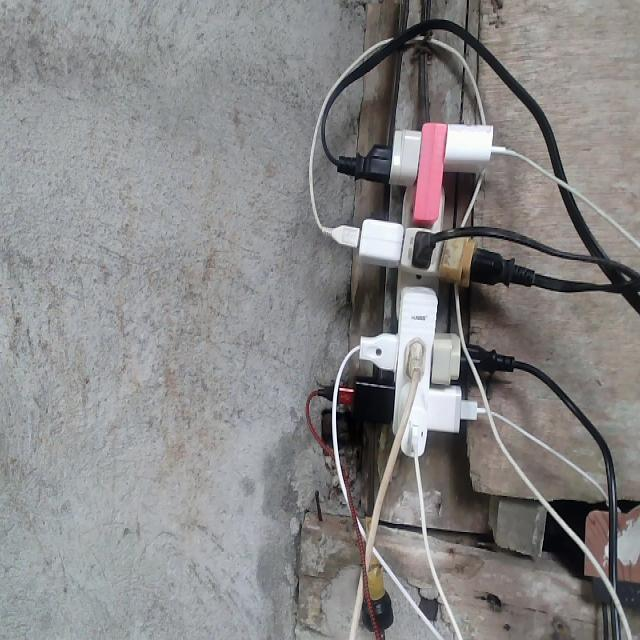-: (320, 120, 518, 467)
